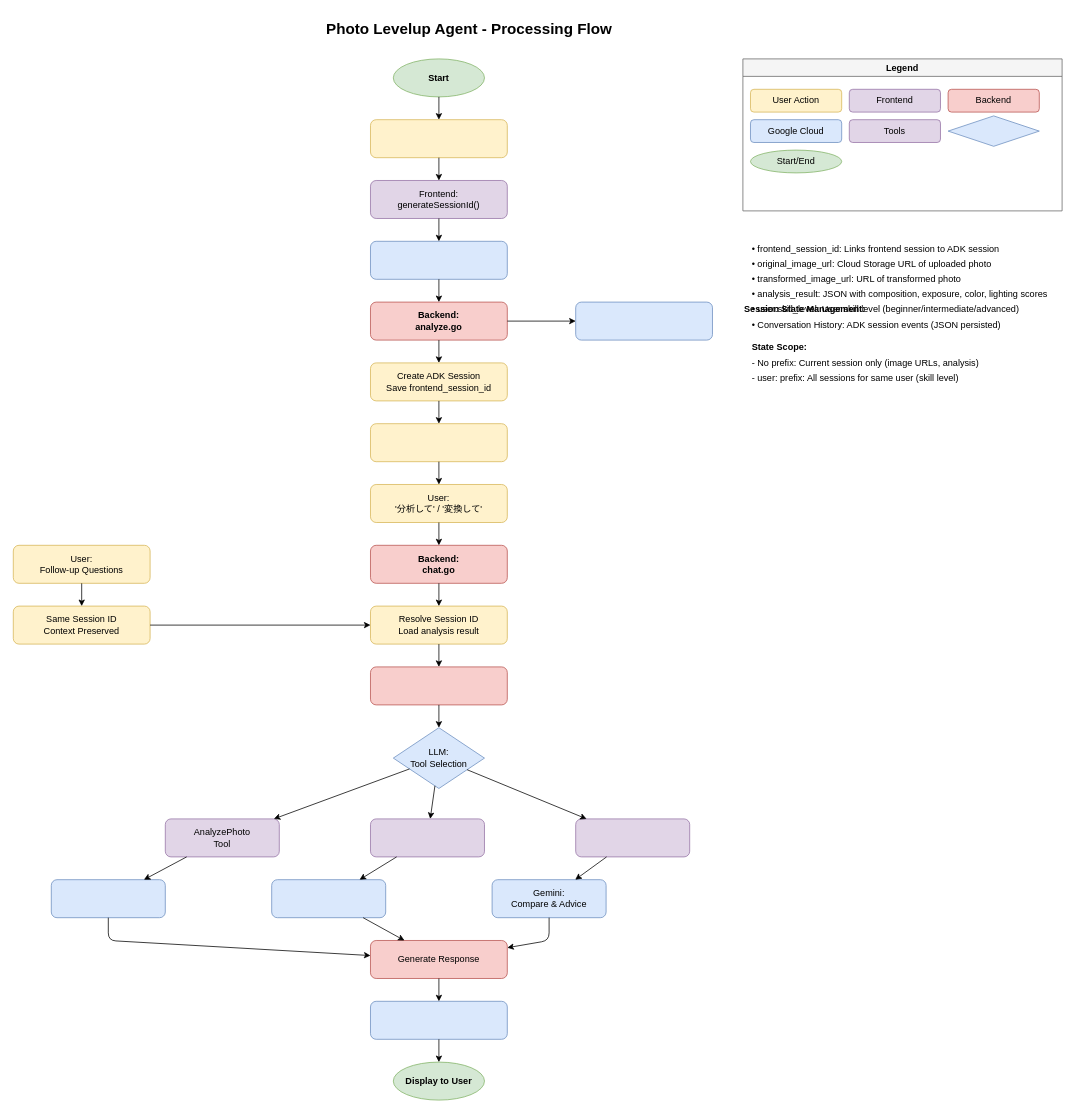
Some shapes in this 1075 by 1113 pixel diagram are drawn without their labels. The shapes that lost their labels are listed below. From the top down, each one's centre as x and y in pixels, then its label:
the point at 438,138: User Uploads Photo
the point at 993,130: Decision
the point at 438,260: Upload to Cloud Storage
the point at 643,320: Gemini: AnalyzeImage()
the point at 438,442: Save Analysis Result to Session State
the point at 438,685: ADK Runner
the point at 427,837: TransformPhoto Tool
the point at 632,837: CompareAndAdvise Tool
the point at 108,898: Gemini Vision Analysis
the point at 328,898: Nano Banana Pro (gemini-3-pro-image)
the point at 438,1020: Save Conversation to Firestore
